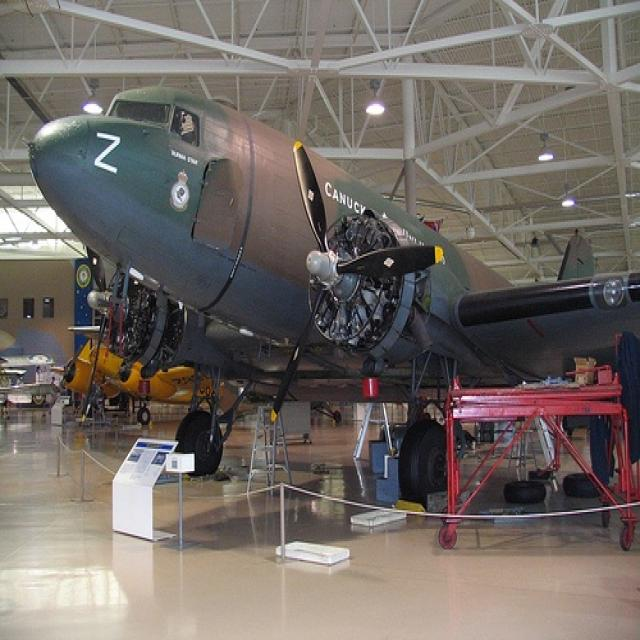aeroplane: (27, 84, 639, 507), (64, 335, 209, 423)
